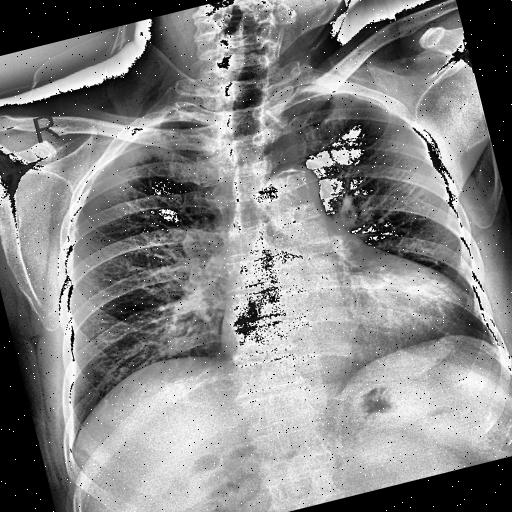0- Aortic enlargement: (252, 154, 330, 242), (254, 156, 326, 228), (257, 164, 323, 215)
3- Cardiomegaly: (211, 247, 475, 390), (212, 254, 474, 390), (218, 265, 476, 392)
